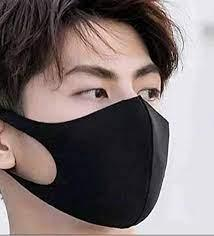mask: (8, 94, 194, 231)
